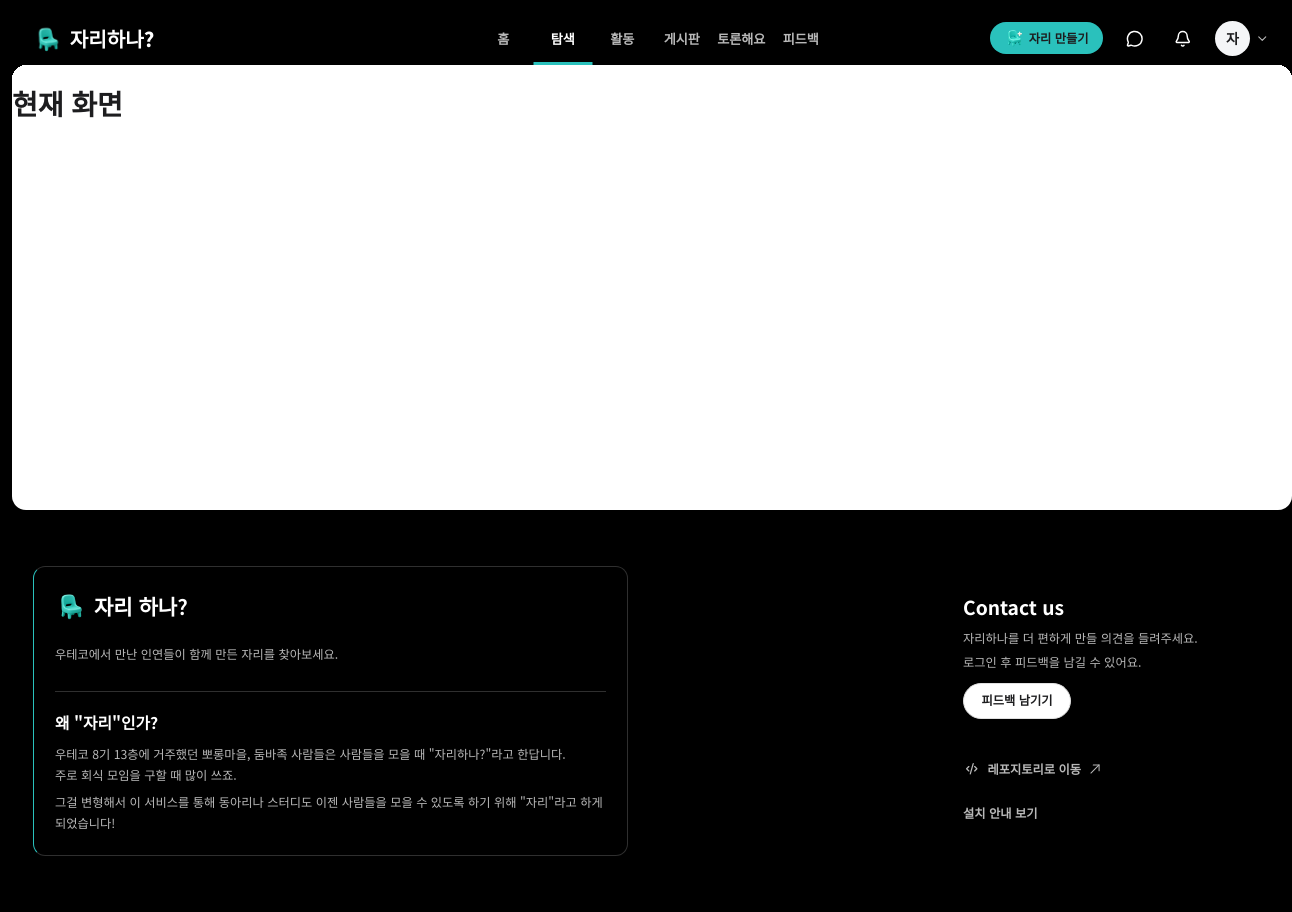
Test case: closes the profile menu after an outside press or focus leaving
Step 1. Click the button named "프로필 메뉴" → (1241, 38), box [1212, 16, 1271, 60]
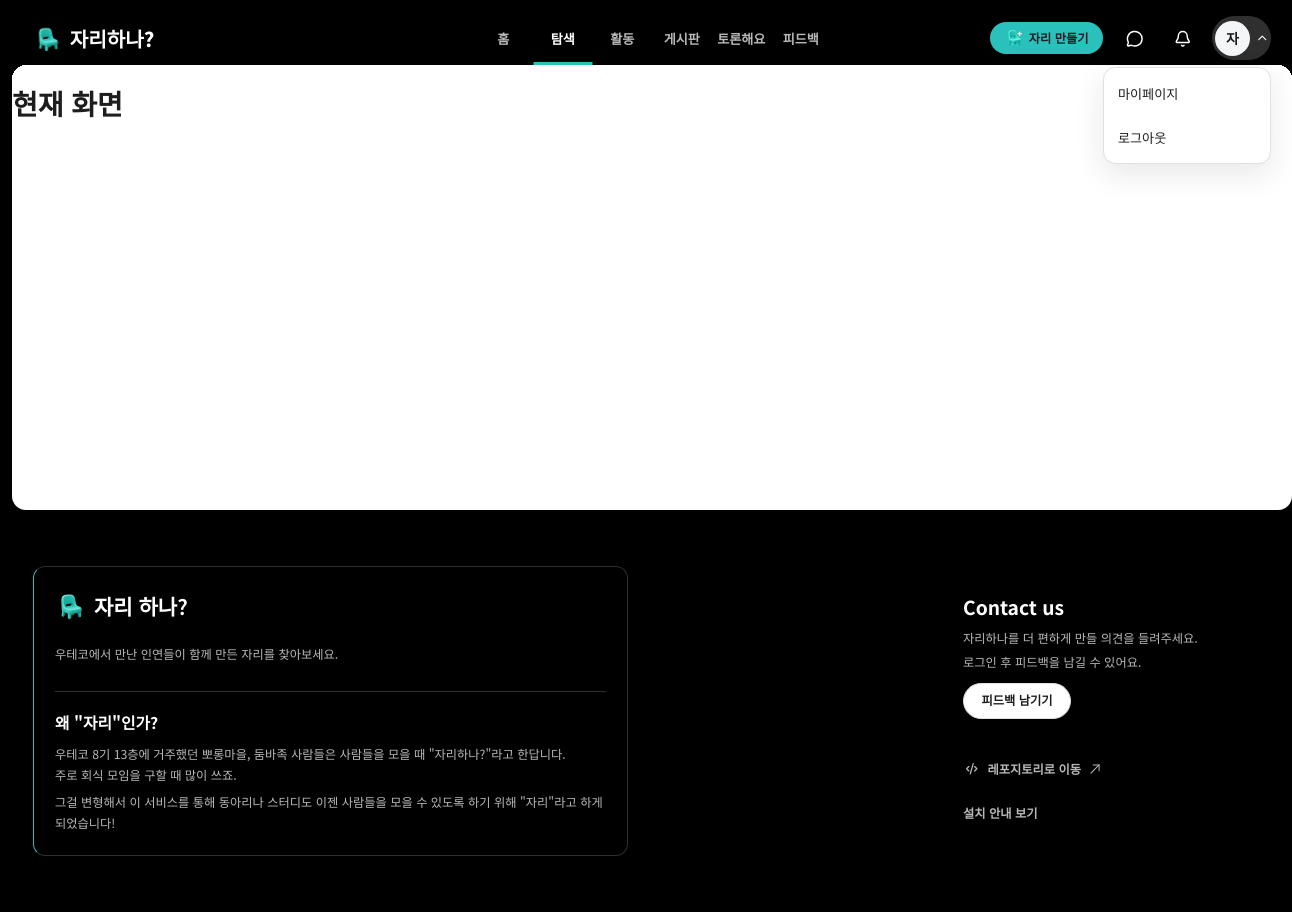
Step 2. Press the mouse on the heading "현재 화면" → (67, 103), box [12, 83, 123, 123]
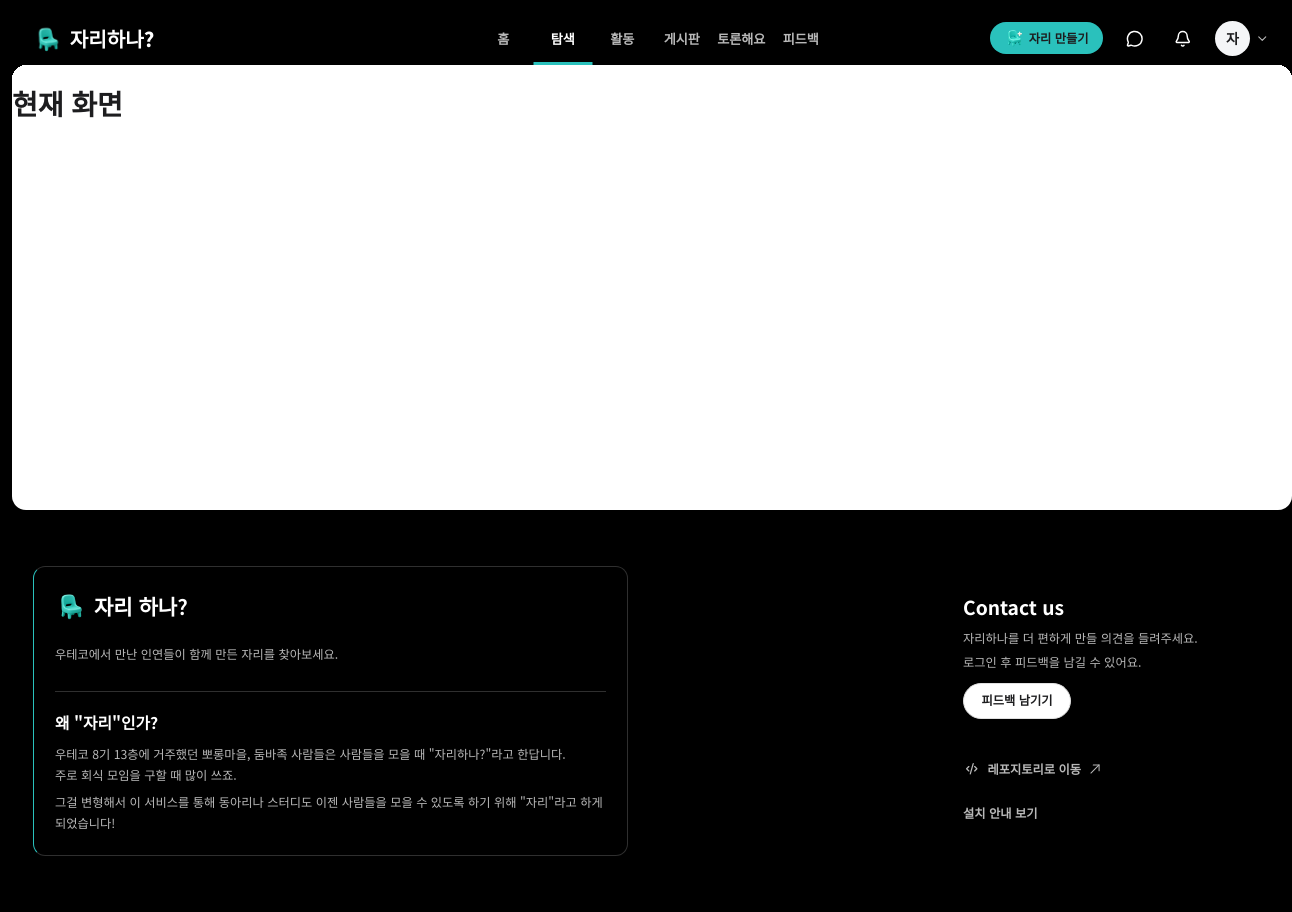
Result: the button named "프로필 메뉴" is collapsed
Step 3. Click the button named "프로필 메뉴" → (1241, 38), box [1212, 16, 1271, 60]
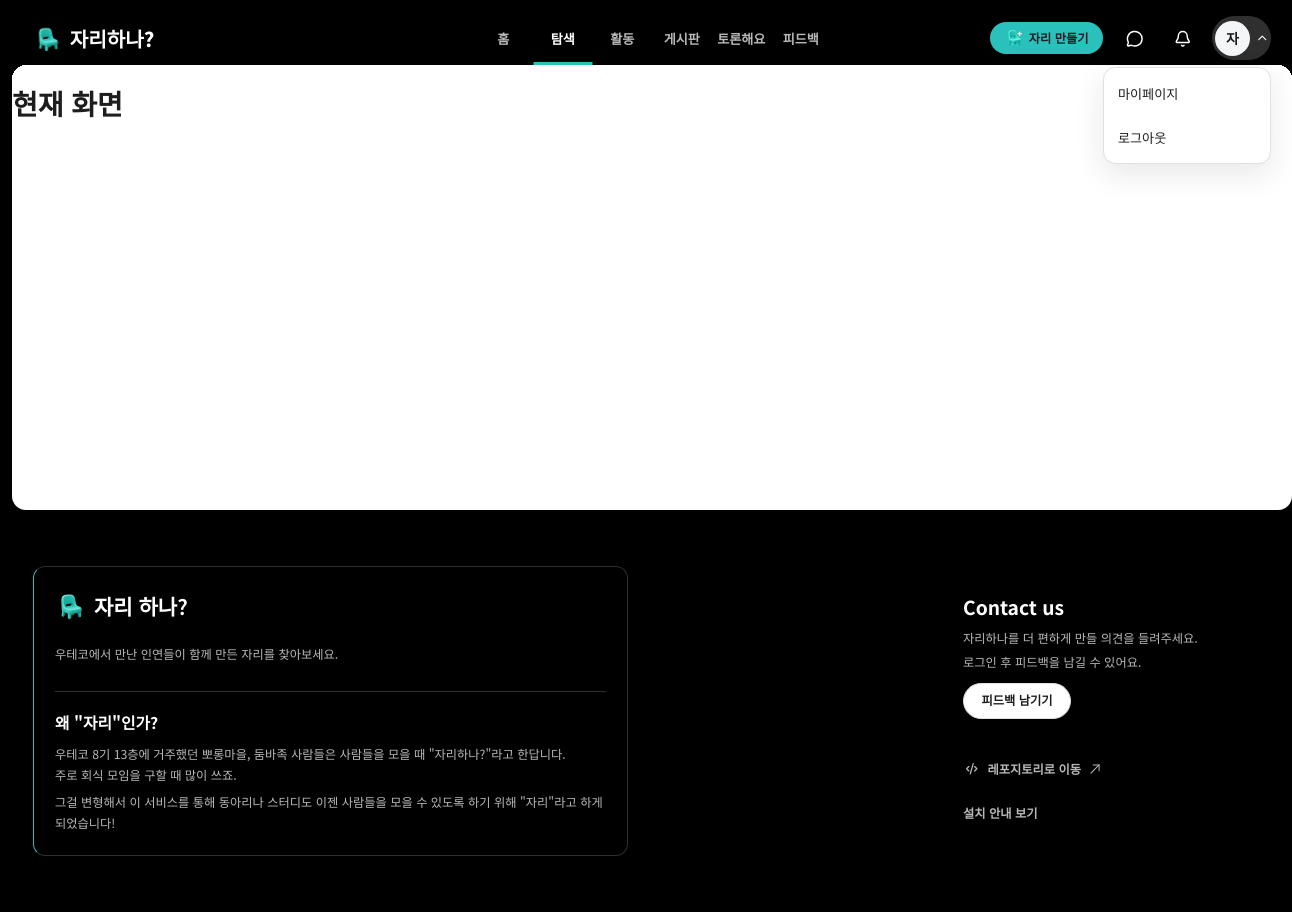
Step 4. Leave the button named "프로필 메뉴", box [1212, 16, 1271, 60]
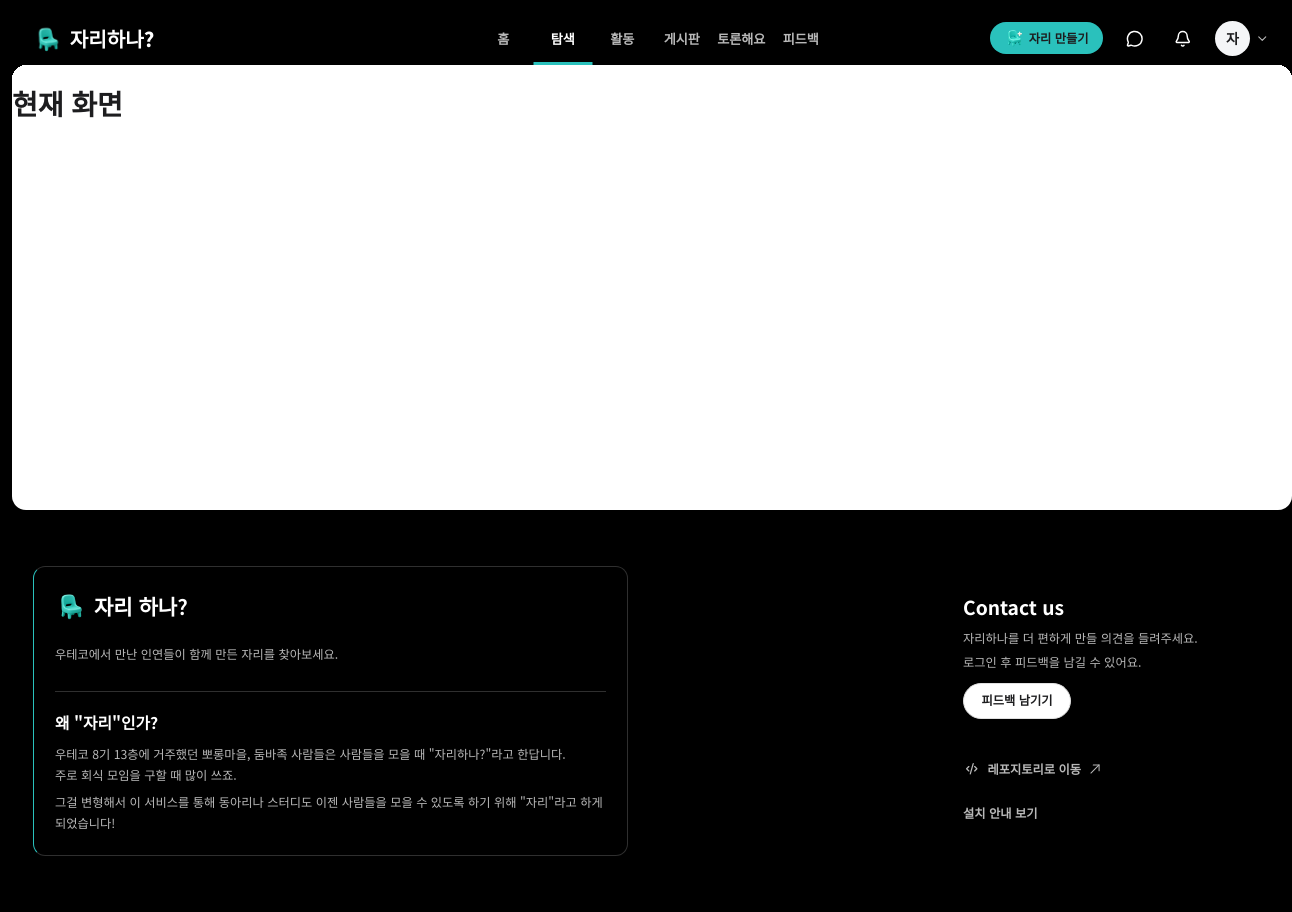
Result: the button named "프로필 메뉴" is collapsed at [1212, 16, 1271, 60]
